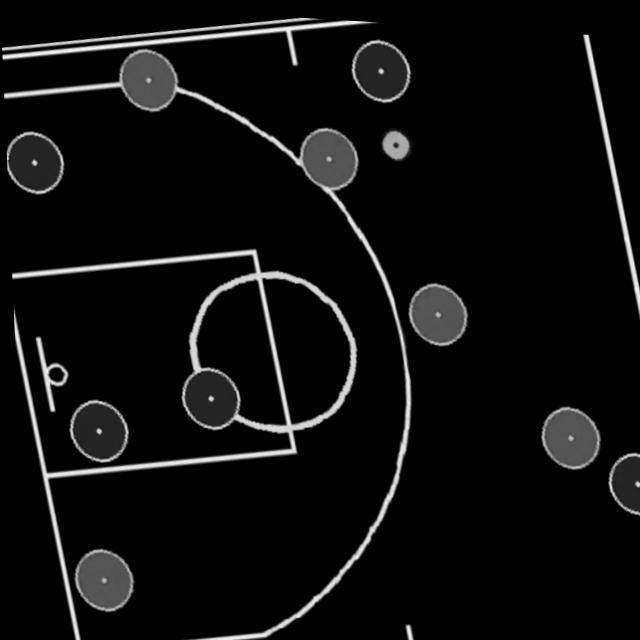Basketball: (377, 119, 415, 160)
Team_A: (60, 392, 130, 466), (172, 358, 242, 432), (346, 30, 416, 103), (4, 125, 68, 198), (598, 438, 640, 512)
Team_B: (64, 542, 135, 616), (293, 117, 363, 192), (400, 272, 471, 345), (532, 393, 602, 467), (113, 41, 183, 115)
